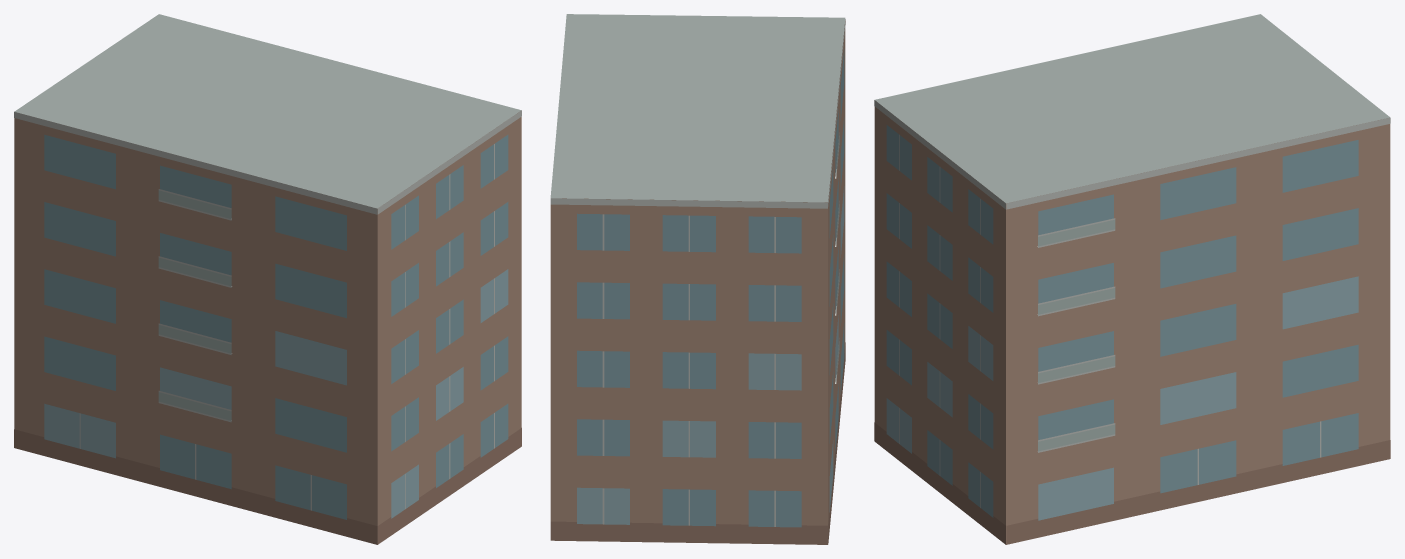
File: survey-upis-33039709.glb
3 renders of one model, left to right at view 1: azimuth 30°, elevation 25°; view 2: azimuth 150°, elevation 25°; view 3: azimuth 270°, elevation 25°, orthographic.
Parts seen in each view (by area): view 1: survey-upis-33039709.tmp; view 2: survey-upis-33039709.tmp; view 3: survey-upis-33039709.tmp.
Part boxes in pixels (<box>): survey-upis-33039709.tmp: <box>14,14,521,544</box>; survey-upis-33039709.tmp: <box>550,14,845,544</box>; survey-upis-33039709.tmp: <box>874,14,1390,544</box>.
Bounding box in the file's own units: 15.71 × 13.2 × 18.09.
